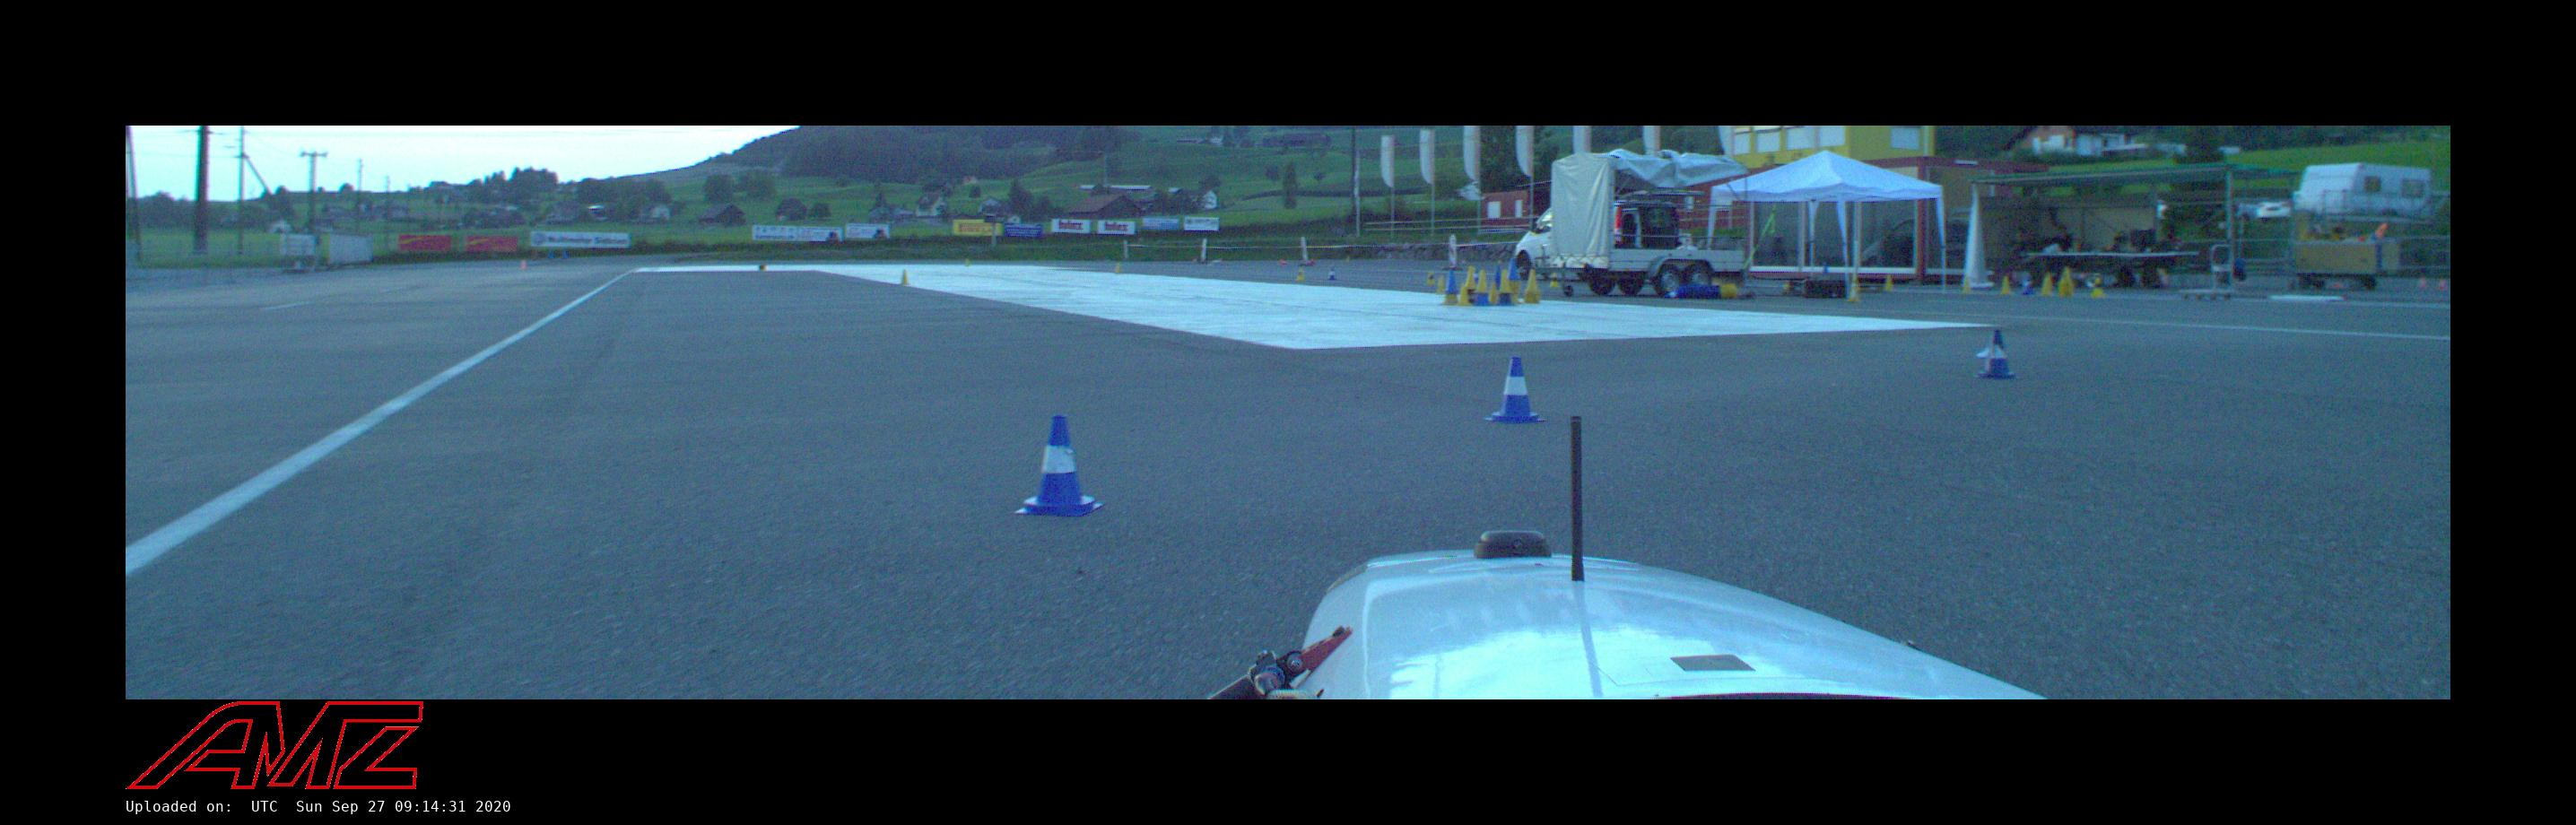blue_cone: (1014, 414, 1104, 518), (1483, 357, 1548, 422), (1973, 330, 2017, 380)
